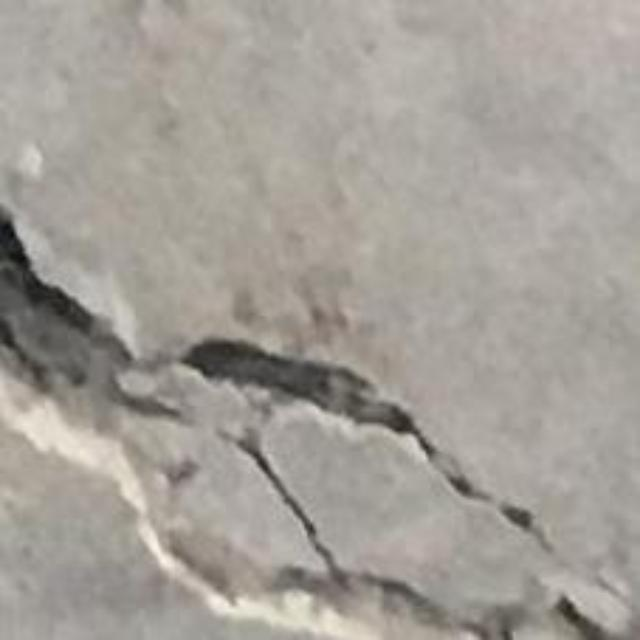crack: (0, 206, 628, 639)
